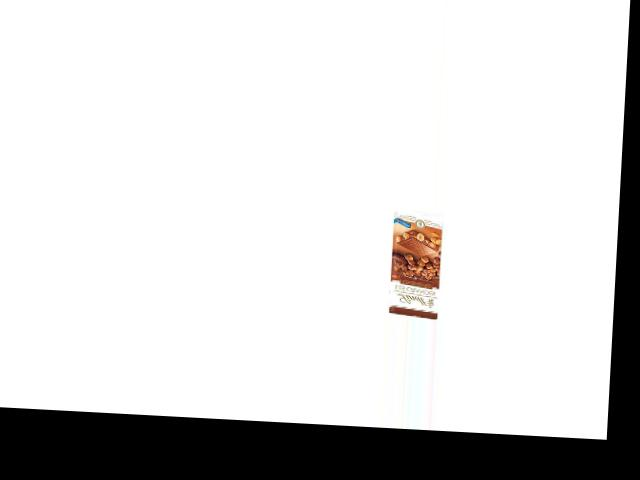chocolate: (385, 216, 450, 316)
